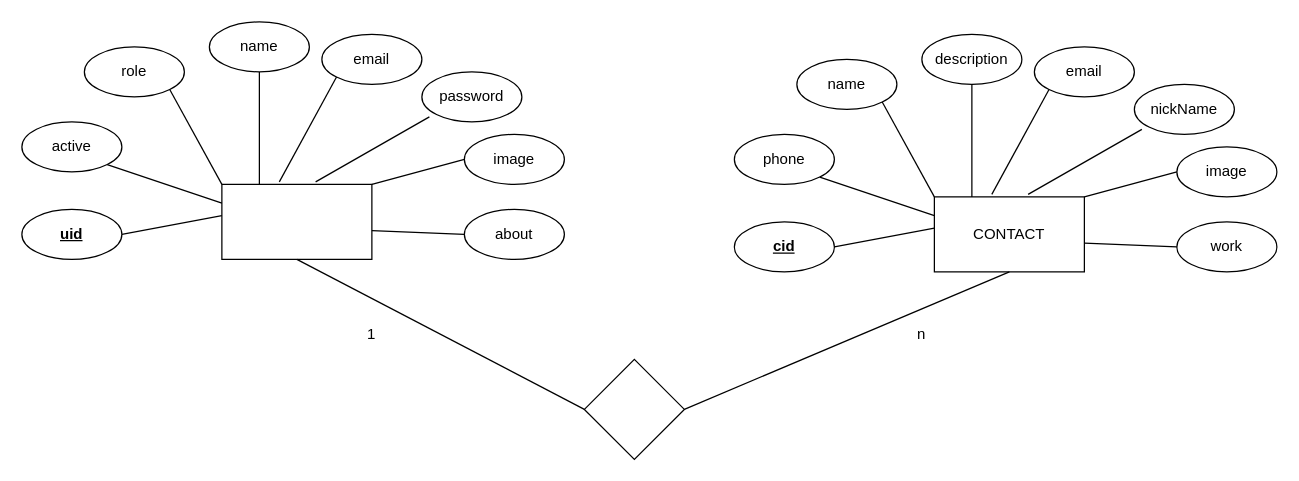
Image size: 1299x481. Some labels were removed from this diagram. Each missing label, with the centre of its shape:
has: pixel 633 408
USER: pixel 296 221
